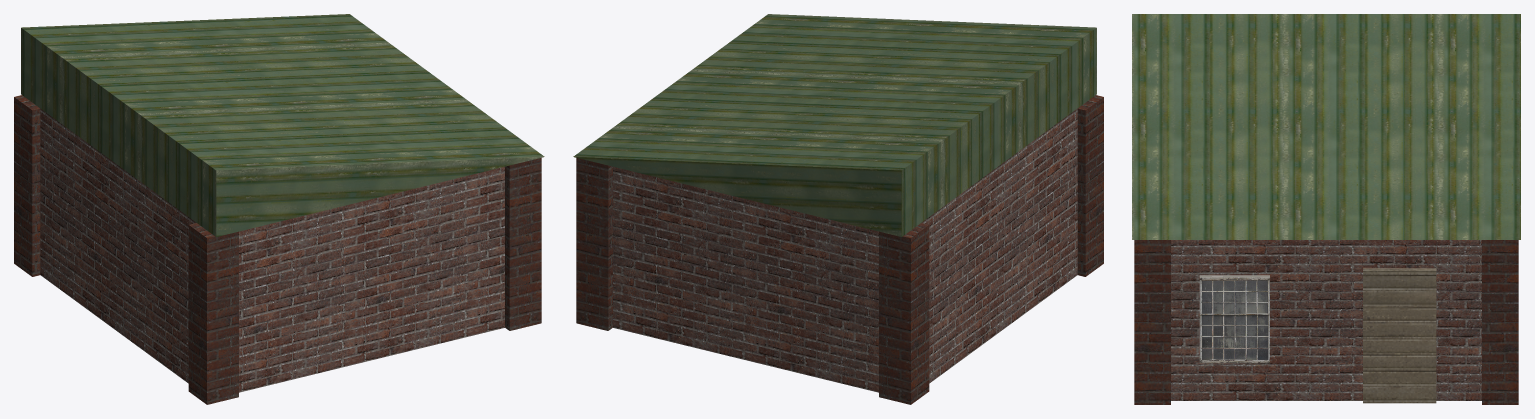
The model's file is Building 1.fbx.
3 views of the same model, side by side, from view 1: azimuth 30°, elevation 25°; view 2: azimuth 150°, elevation 25°; view 3: azimuth 270°, elevation 25° (orthographic).
Parts seen in each view (by area): view 1: Plane, Cube, Cube.001; view 2: Plane, Cube, Cube.001; view 3: Plane, Cube, Cube.001, Cube.003, Cube.002.
Part boxes in pixels (left/top/right/bottom): Plane: left=21, top=14, right=544, bottom=236; Cube: left=40, top=108, right=504, bottom=392; Cube.001: left=14, top=95, right=541, bottom=404; Plane: left=573, top=14, right=1096, bottom=236; Cube: left=613, top=108, right=1077, bottom=392; Cube.001: left=576, top=95, right=1103, bottom=404; Plane: left=1132, top=14, right=1520, bottom=239; Cube: left=1171, top=240, right=1481, bottom=400; Cube.001: left=1134, top=240, right=1518, bottom=404; Cube.003: left=1363, top=268, right=1436, bottom=403; Cube.002: left=1199, top=275, right=1269, bottom=363.
Size of the model in its own units: 1057 by 700 by 1062.
